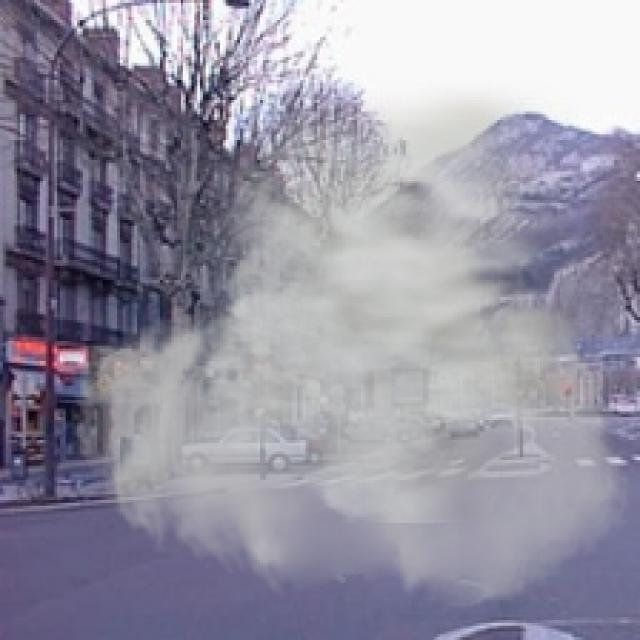smoke: (69, 80, 634, 611)
